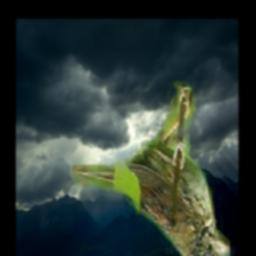Sparrow: (71, 82, 229, 256)
